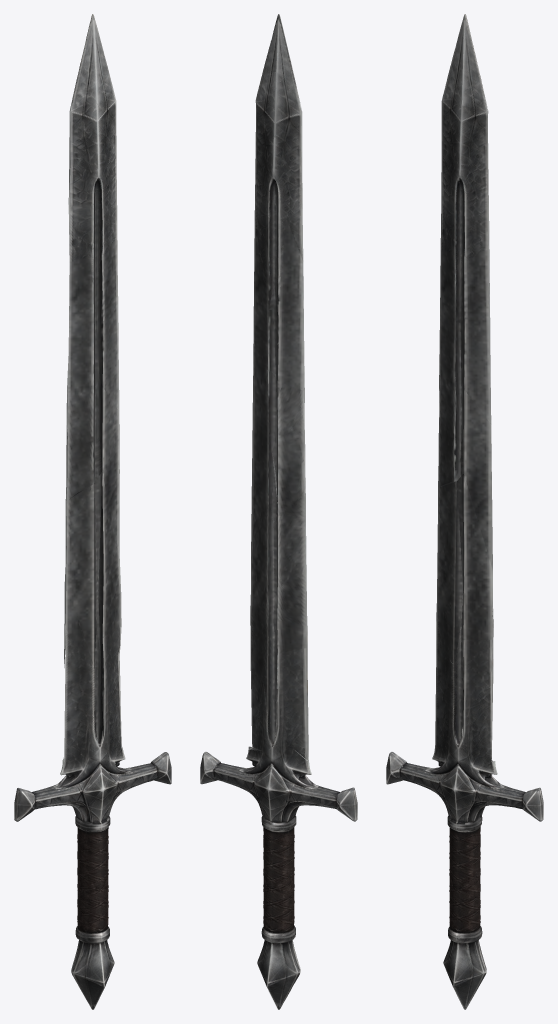
Rendered from GRS036_Remesh_10k.fbx.
3 renders of one model, left to right at view 1: azimuth 30°, elevation 25°; view 2: azimuth 150°, elevation 25°; view 3: azimuth 330°, elevation 25°, orthographic.
Visible parts, largest first — view 1: output_unwrapped; view 2: output_unwrapped; view 3: output_unwrapped.
Boxes of the visible parts, box(x1,y1,x2,y2) form: output_unwrapped: box(14, 14, 171, 1009); output_unwrapped: box(200, 14, 357, 1009); output_unwrapped: box(386, 14, 543, 1009).
Size of the model in its own units: 31.04 by 190 by 7.95.
Materials: 1 (1 with a texture image).
